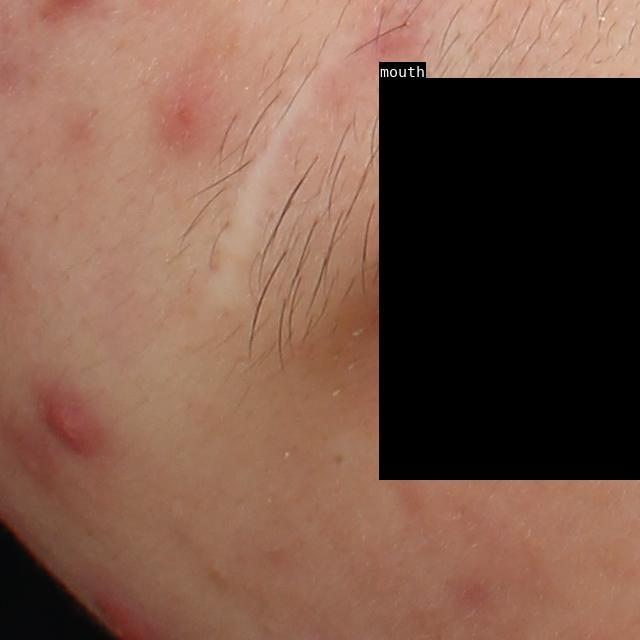other: (199, 7, 378, 338)
papule: (35, 377, 112, 471)
